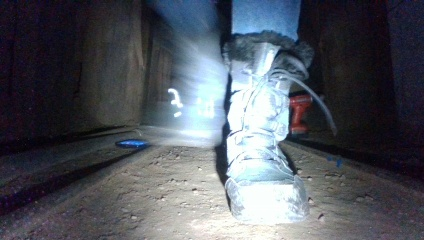cellphone: (115, 136, 149, 150)
drill: (290, 93, 331, 140)
